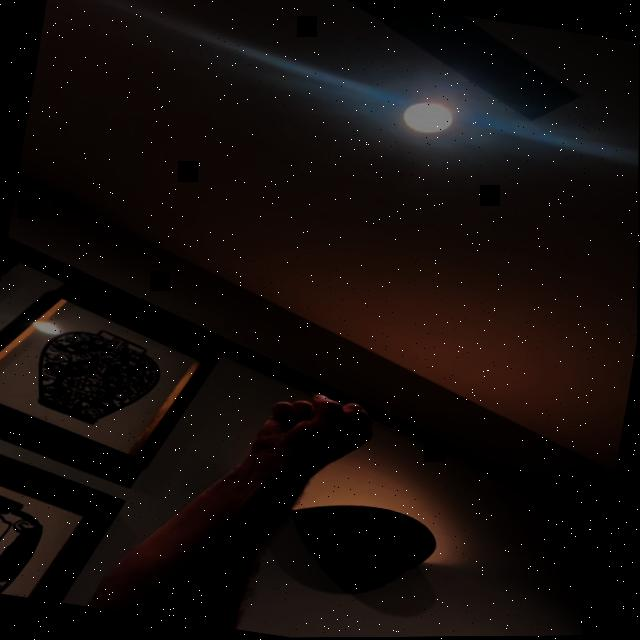Rock: (249, 384, 381, 474)
